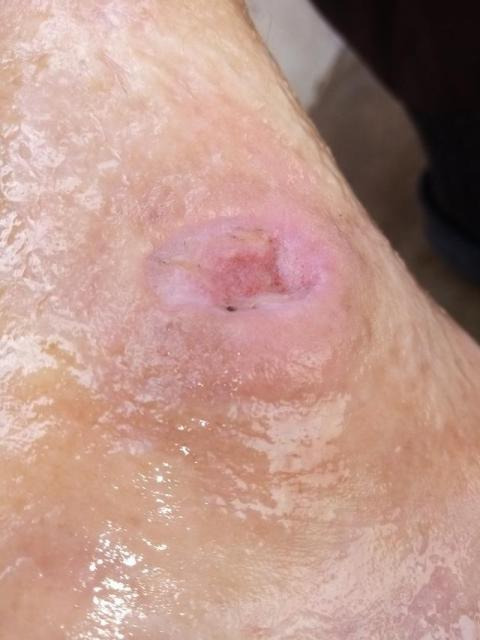wound: (150, 215, 320, 312)
